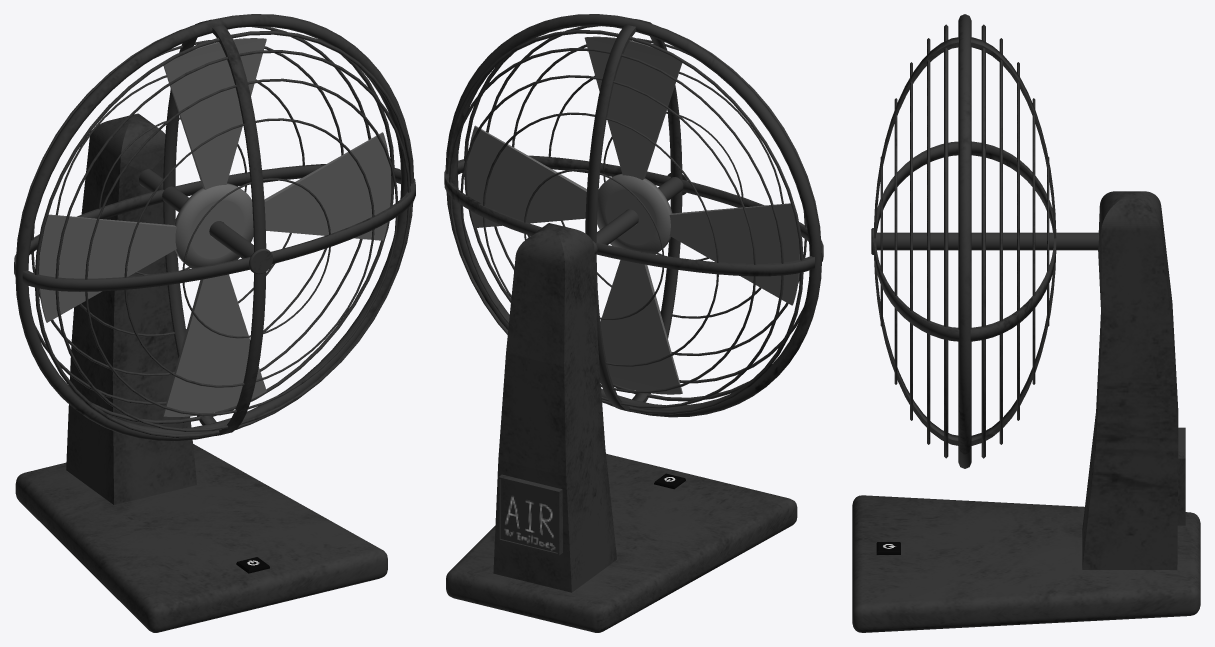
3 renders of one model, left to right at view 1: azimuth 30°, elevation 25°; view 2: azimuth 150°, elevation 25°; view 3: azimuth 270°, elevation 25°, orthographic. The views are drawn at different scales.
Parts seen in each view (by area): view 1: Base, Fan; view 2: Base, Fan; view 3: Base, Fan.
Part boxes in pixels (bbox=[...]): Base: bbox=[14, 14, 415, 632]; Fan: bbox=[38, 38, 391, 416]; Base: bbox=[444, 14, 823, 632]; Fan: bbox=[467, 36, 799, 394]; Base: bbox=[852, 14, 1200, 632]; Fan: bbox=[876, 232, 1098, 250].
Size of the model in its own units: 1.31 by 1.72 by 0.9997.
1 material, 1 textured.
